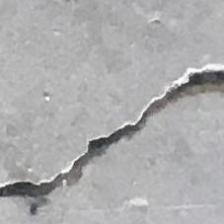Crack: (0, 63, 224, 203)
